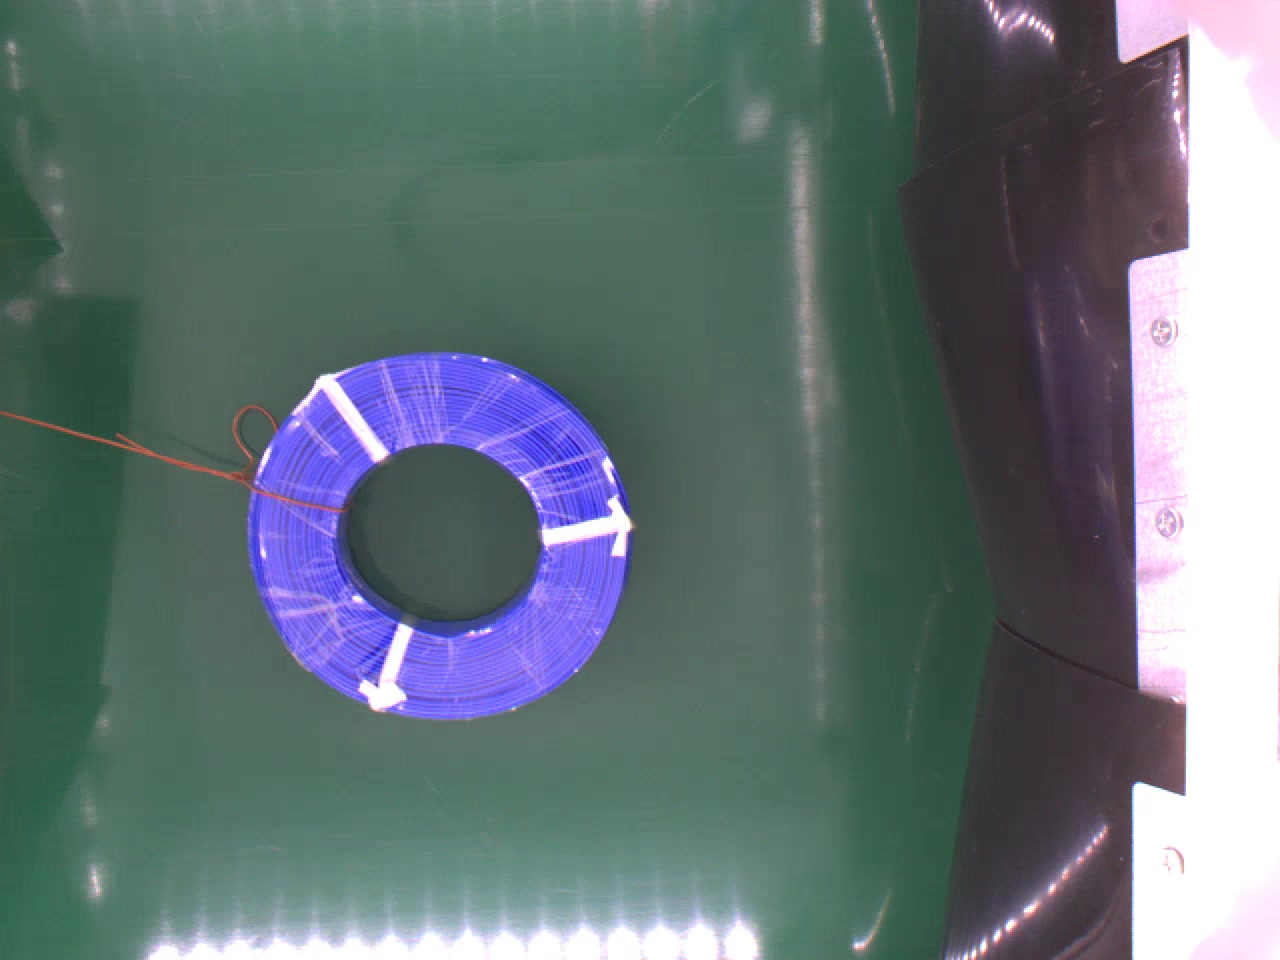blue: (240, 350, 633, 722)
